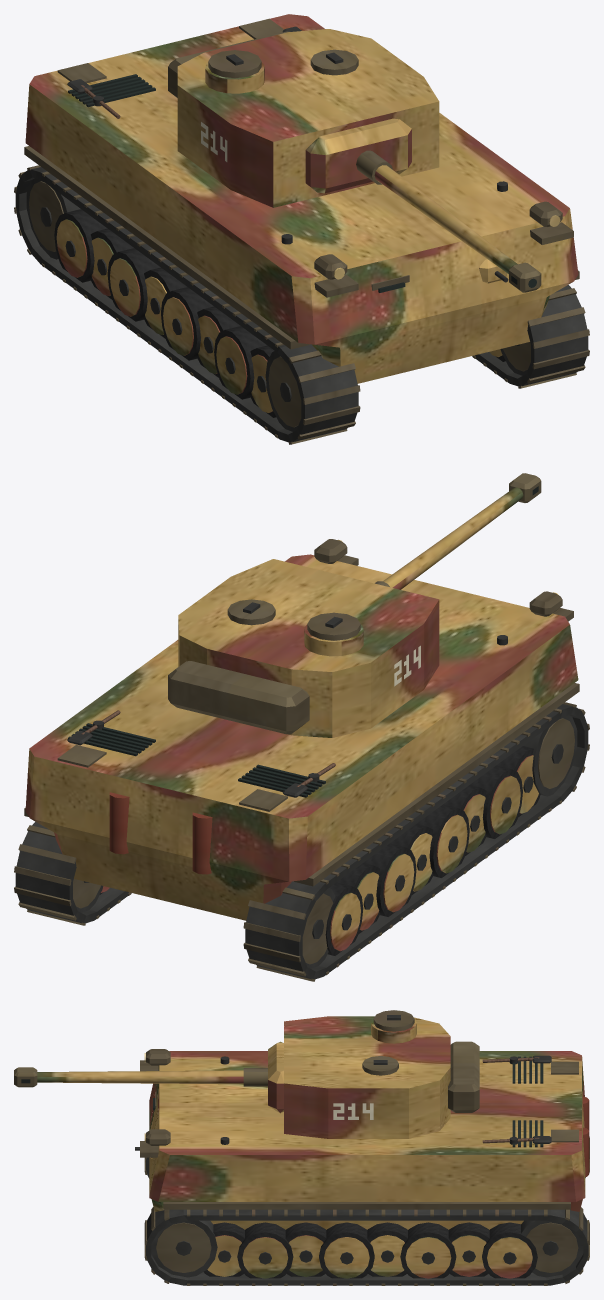
Rendered from tiger-i.glb.
The picture shows the model from 3 angles, top to bottom: view 1: azimuth 30°, elevation 25°; view 2: azimuth 150°, elevation 25°; view 3: azimuth 270°, elevation 25°; orthographic projection. The views are drawn at different scales.
Parts seen in each view (by area): view 1: Tiger I; view 2: Tiger I; view 3: Tiger I.
Part boxes in pixels (x1=…): Tiger I: x1=14, y1=14, x2=589, y2=444; Tiger I: x1=14, y1=473, x2=589, y2=981; Tiger I: x1=14, y1=1010, x2=589, y2=1285.
Bounding box in the file's own units: 3.62 × 3.09 × 8.16.
Materials: 1 (1 with a texture image).
